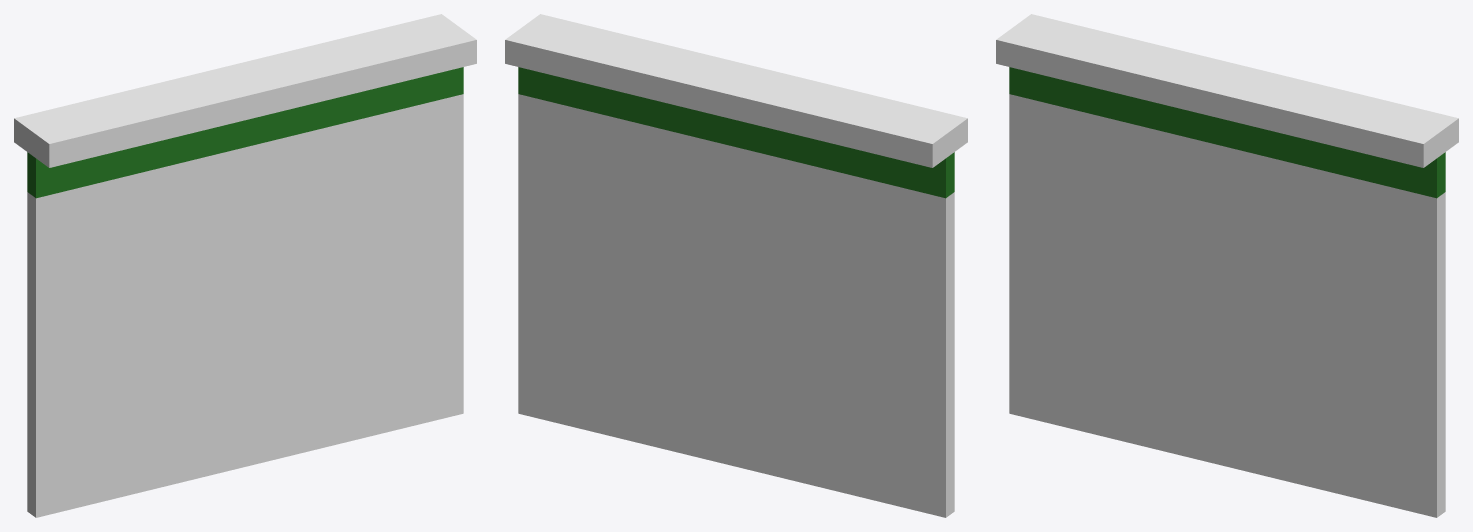
File: penghubung_corridor_lantai_3_1_tembok.obj
3 renders of one model, left to right at view 1: azimuth 30°, elevation 25°; view 2: azimuth 150°, elevation 25°; view 3: azimuth 330°, elevation 25°, orthographic.
Size of the model in its own units: 5.6 by 4.8 by 0.8.
Materials: 1 (1 with a texture image).
